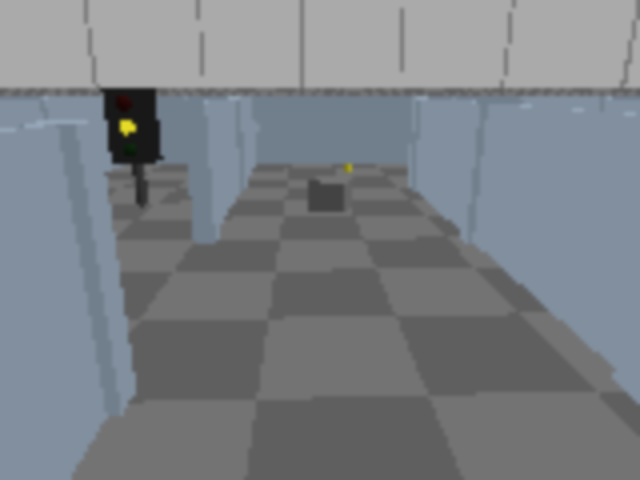obstacle: (309, 175, 354, 213)
traffic_light: (100, 82, 167, 210)
